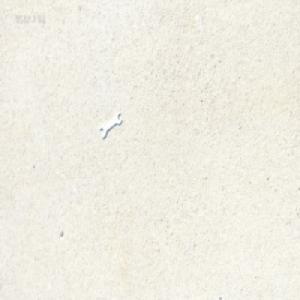Wrench: (98, 110, 121, 137)
